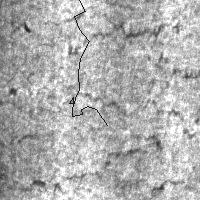crazing: (17, 128, 196, 199), (64, 76, 181, 168), (36, 4, 184, 55), (69, 0, 107, 125)
